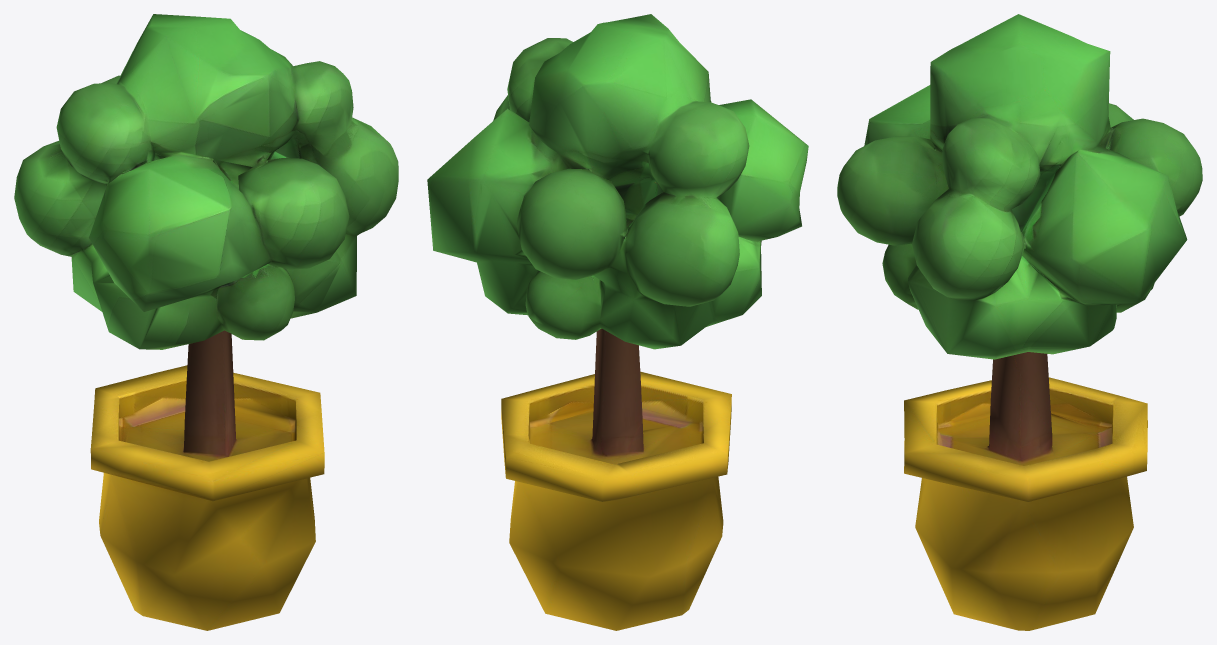
The model's file is tree-in-a-pot.glb.
The picture shows the model from 3 angles, left to right: view 1: azimuth 30°, elevation 25°; view 2: azimuth 150°, elevation 25°; view 3: azimuth 270°, elevation 25°; orthographic projection. The views are drawn at different scales.
Parts seen in each view (by area): view 1: Mesh_0; view 2: Mesh_0; view 3: Mesh_0.
Boxes of the visible parts, x1,y1,x2,y2 form: Mesh_0: [14, 14, 398, 630]; Mesh_0: [427, 14, 808, 630]; Mesh_0: [837, 14, 1202, 630].
Bounding box in the file's own units: 1.66 × 3 × 1.77.
1 material, 1 textured.
